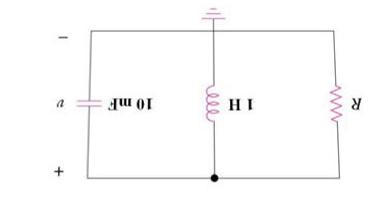inductor: (194, 74, 224, 145)
